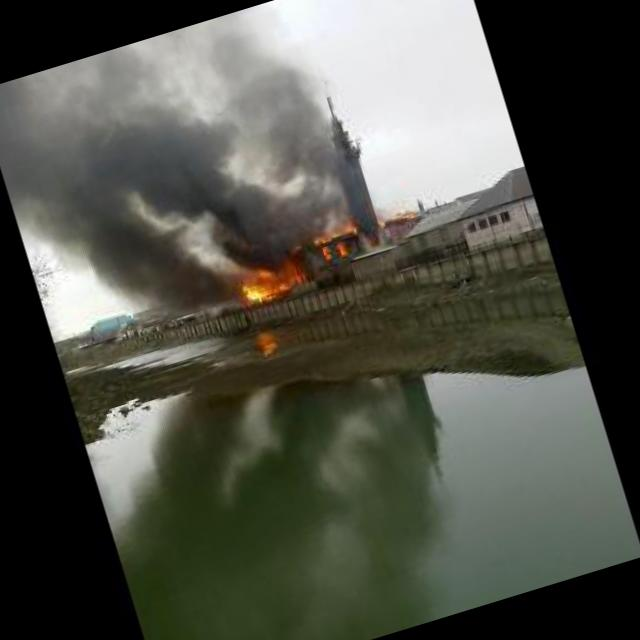fire: (295, 180, 424, 258), (220, 253, 304, 326)
smoke: (4, 120, 220, 347), (113, 75, 316, 295), (174, 0, 351, 216)
